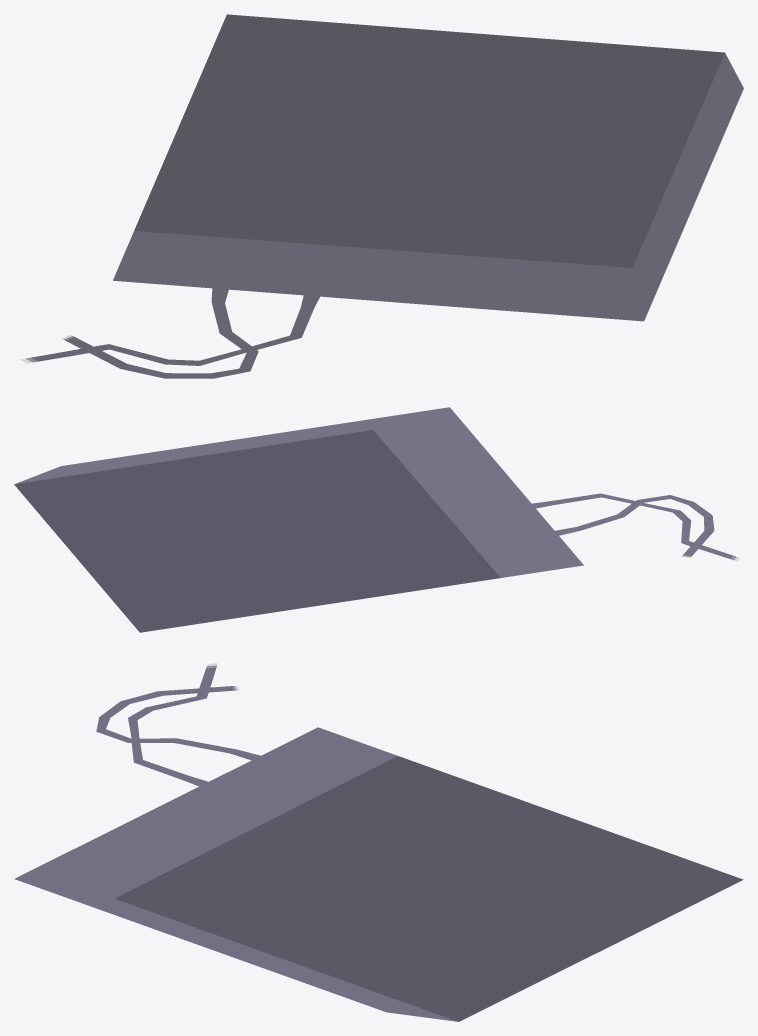
The picture shows the model from 3 angles, top to bottom: view 1: azimuth 30°, elevation 25°; view 2: azimuth 150°, elevation 25°; view 3: azimuth 270°, elevation 25°; orthographic projection. The views are drawn at different scales.
Visible parts, largest first — view 1: Joint_0_Object_0; view 2: Joint_0_Object_0; view 3: Joint_0_Object_0.
Boxes of the visible parts, x1=… form: Joint_0_Object_0: x1=26, y1=14, x2=743, y2=378; Joint_0_Object_0: x1=14, y1=407, x2=736, y2=632; Joint_0_Object_0: x1=15, y1=665, x2=743, y2=1021.
Size of the model in its own units: 580 by 0 by 496.
1 material, 1 textured.
